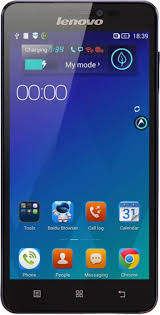lenovo: (1, 1, 160, 315)
